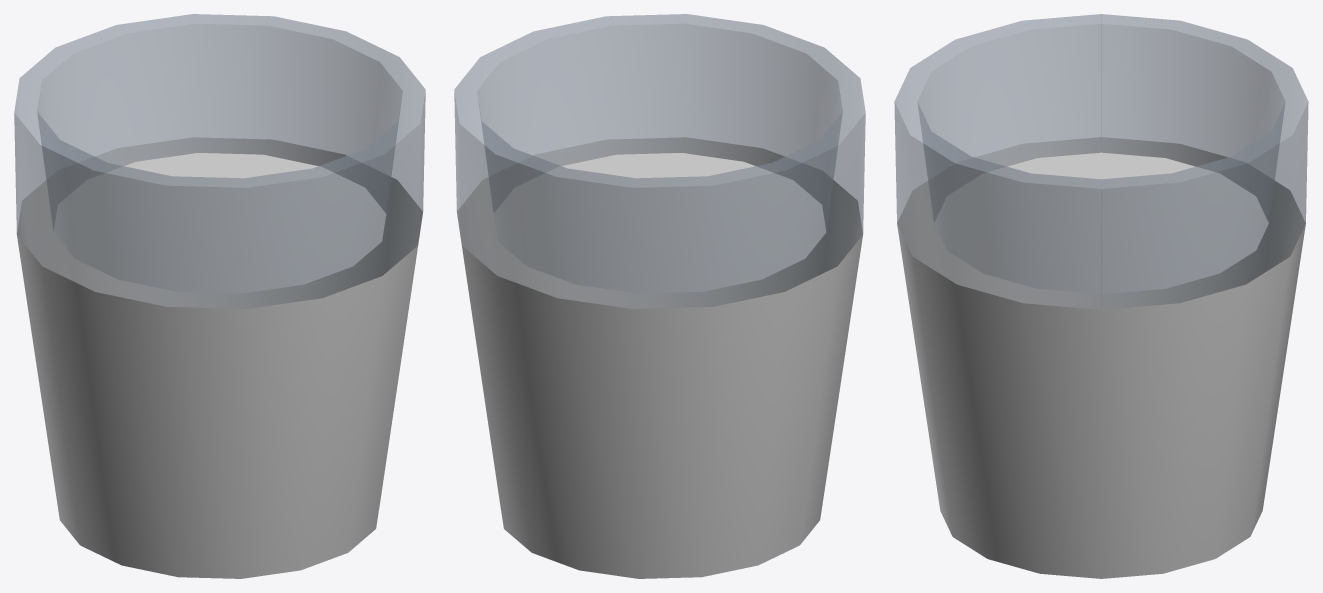
The model's file is milk.fbx.
3 views of the same model, side by side, from view 1: azimuth 30°, elevation 25°; view 2: azimuth 150°, elevation 25°; view 3: azimuth 270°, elevation 25° (orthographic).
Visible parts, largest first — view 1: Cylinder; view 2: Cylinder; view 3: Cylinder.
Part boxes in pixels (<box>): Cylinder: <box>14,14,425,578</box>; Cylinder: <box>454,14,865,578</box>; Cylinder: <box>894,14,1308,578</box>.
Bounding box in the file's own units: 45.49 × 49.62 × 45.49.
